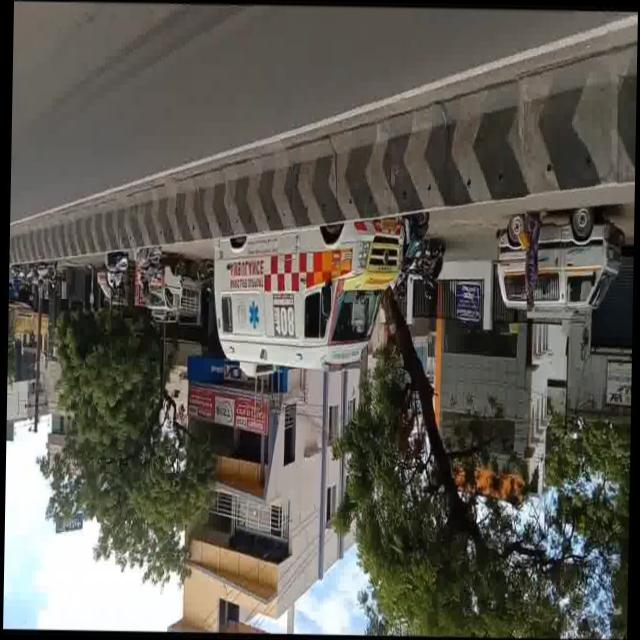ambulance: (213, 206, 404, 378)
